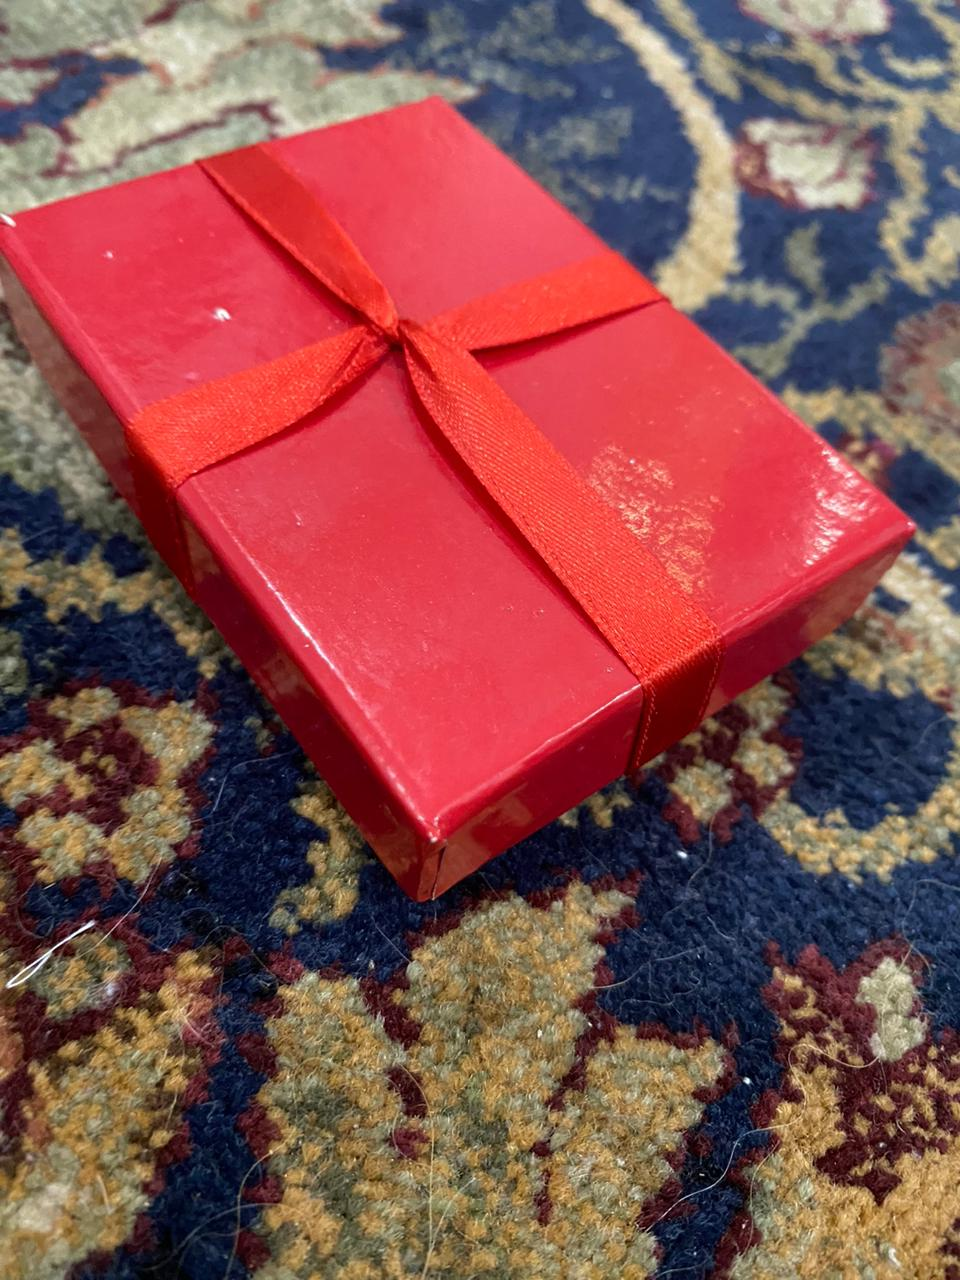Black Box: (6, 89, 924, 911)
